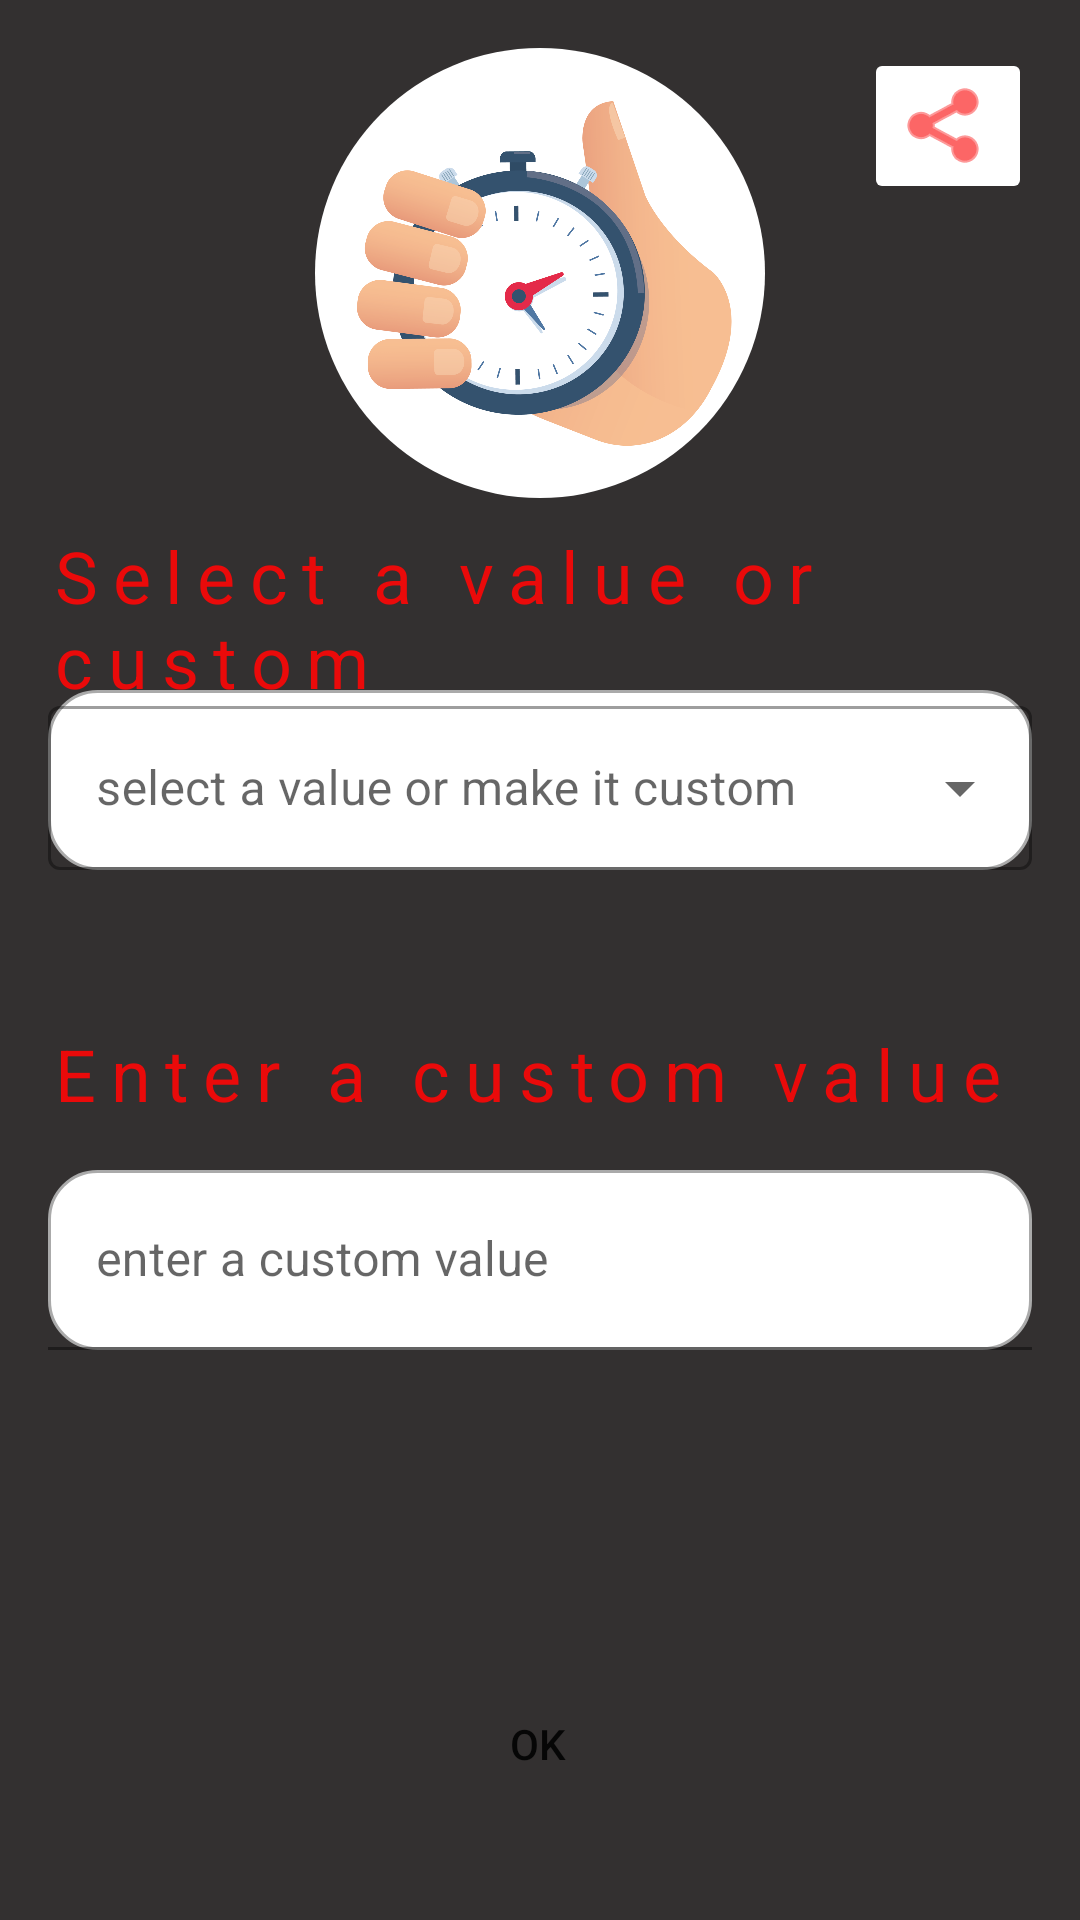

Named icons in this screenshot (1080*1920) and their centers, (x,y):
share: (948,126)
